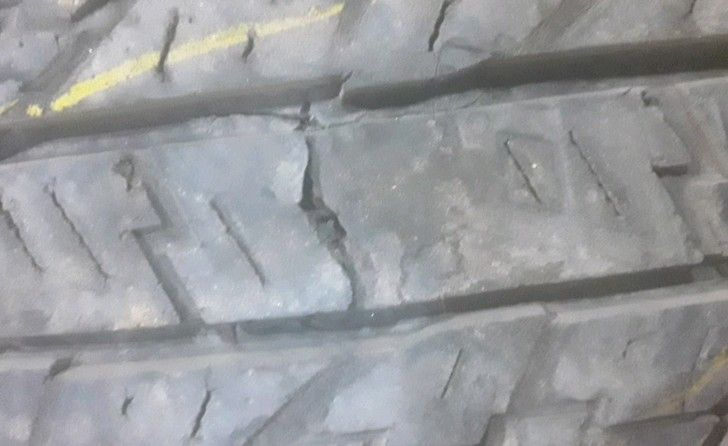tr: (293, 91, 382, 336)
